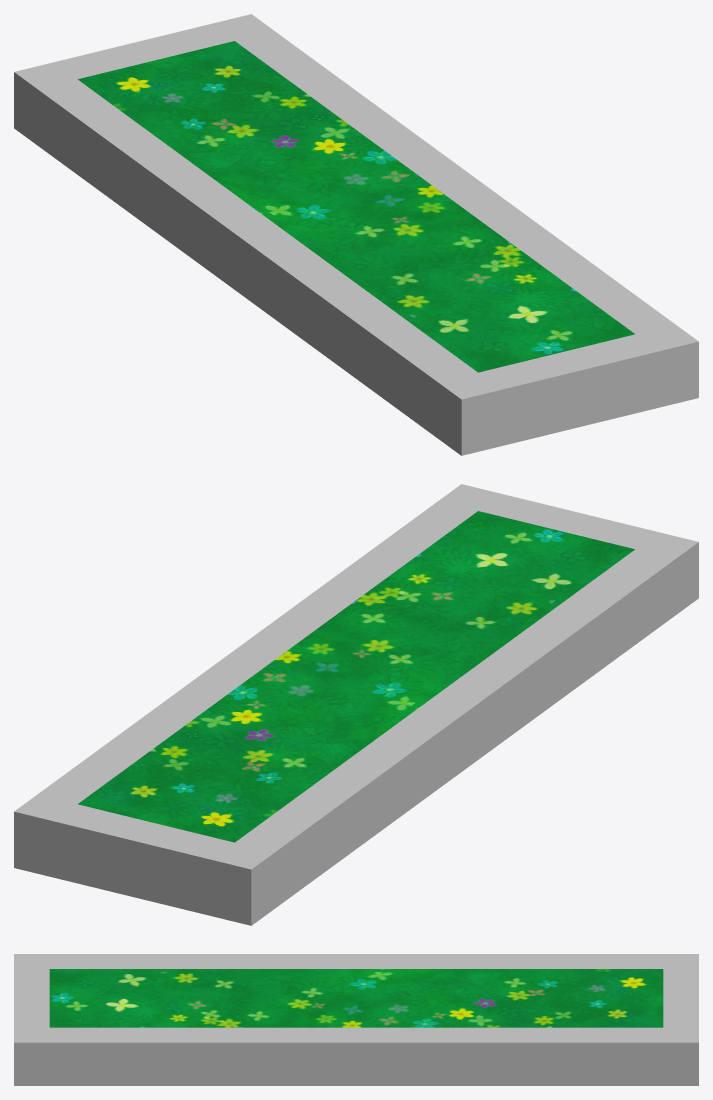
The model's file is Plant02_b04.FBX.
The picture shows the model from 3 angles, top to bottom: view 1: azimuth 30°, elevation 25°; view 2: azimuth 150°, elevation 25°; view 3: azimuth 270°, elevation 25°; orthographic projection. The views are drawn at different scales.
Visible parts, largest first — view 1: Plant02_b04; view 2: Plant02_b04; view 3: Plant02_b04.
Part boxes in pixels (left/top/right/bottom): Plant02_b04: left=14, top=14, right=698, bottom=455; Plant02_b04: left=14, top=484, right=698, bottom=925; Plant02_b04: left=14, top=954, right=698, bottom=1085.
Size of the model in its own units: 208 by 47.09 by 678.
